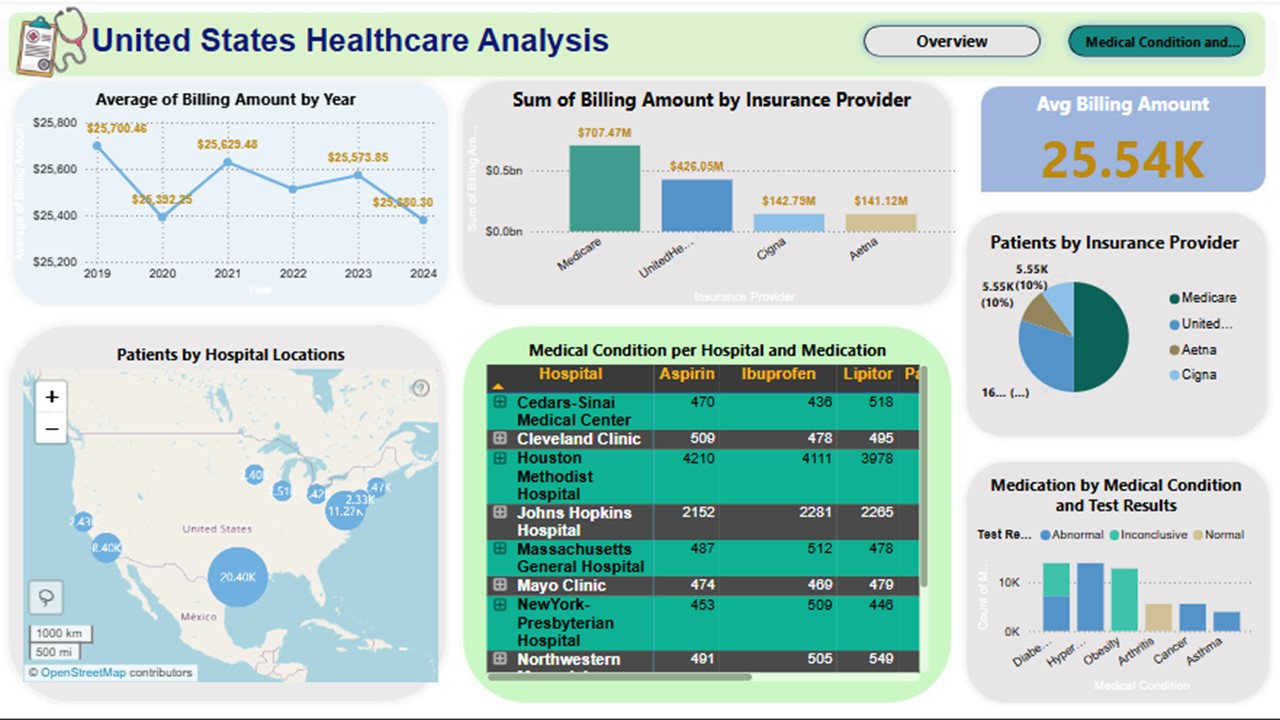

The dashboard page shown, as its layout file describes it:
{"tool":"powerbi","page":{"name":"Medical Condition and Costs","canvas":[1280,720],"ordinal":1},"visuals":[{"type":"columnChart","fields":{"Category":["Data.Insurance Provider"],"Y":["Sum(Data.Billing Amount)"]},"box":[462.9,86.7,498.1,221.9],"z":0},{"type":"ZoomChartsDrillDownMapPro6AFEEB10499543F282BD06EF315D5EAA","title":"Patients by Hospital Locations","fields":{"latitude":["Data.Hospital Latitude"],"longitude":["Data.Hospital Longitude"],"value":["CountNonNull(Data.Patient ID)"]},"box":[21.9,338.1,421.9,347.1],"z":4000},{"type":"lineChart","fields":{"Y":["Avg(Data.Billing Amount)"],"Category":["Data.Date of Admission.Variation.Date Hierarchy.Year"]},"box":[11.6,87.7,432.3,212.9],"z":5000},{"type":"textbox","box":[9,16.8,1260.6,60.6],"z":6000},{"type":"pageNavigator","box":[654.9,17.3,433.7,59.3],"z":7000},{"type":"pivotTable","title":"Medical Condition per Hospital and Medication","fields":{"Rows":["Data.Hospital","Data.Medical Condition","Data.Admission Type"],"Values":["CountNonNull(Data.Treatment Duration)"],"Columns":["Data.Medication"]},"box":[482.9,338.3,449.6,347],"z":8000},{"type":"card","title":"Avg Billing Amount","fields":{"Values":["Avg(Data.Billing Amount)"]},"box":[972.7,86.7,296.8,108.7],"z":9000},{"type":"pieChart","title":"Patients by Insurance Provider","fields":{"Category":["Data.Insurance Provider"],"Y":["CountNonNull(Data.Patient ID)"]},"box":[971.6,222.7,287.7,202.4],"z":10000},{"type":"columnChart","title":"Medication by Medical Condition and Test Results","fields":{"Category":["Data.Medical Condition"],"Y":["CountNonNull(Data.Medication)"],"Series":["Data.Test Results"]},"box":[971.6,472.3,286.5,223.2],"z":11000},{"type":"actionButton","box":[1088.7,17.3,148.9,59.3],"z":12000},{"type":"actionButton","box":[0,0,100,40],"z":13000}]}

Visuals, with their boxes in screenshot pixels (x1, y1, x2, y2), scaled from the page's 1280x720 canvas onto the 1280x720 screenshot:
columnChart - Data.Insurance Provider x Sum(Data.Billing Amount): bbox=[463, 87, 961, 309]
"Patients by Hospital Locations" ZoomChartsDrillDownMapPro6AFEEB10499543F282BD06EF315D5EAA: bbox=[22, 338, 444, 685]
lineChart - Avg(Data.Billing Amount) x Data.Date of Admission.Variation.Date Hierarchy.Year: bbox=[12, 88, 444, 301]
textbox: bbox=[9, 17, 1270, 77]
pageNavigator: bbox=[655, 17, 1089, 77]
"Medical Condition per Hospital and Medication" pivotTable: bbox=[483, 338, 932, 685]
"Avg Billing Amount" card: bbox=[973, 87, 1270, 195]
"Patients by Insurance Provider" pieChart: bbox=[972, 223, 1259, 425]
"Medication by Medical Condition and Test Results" columnChart: bbox=[972, 472, 1258, 696]
actionButton: bbox=[1089, 17, 1238, 77]
actionButton: bbox=[0, 0, 100, 40]
